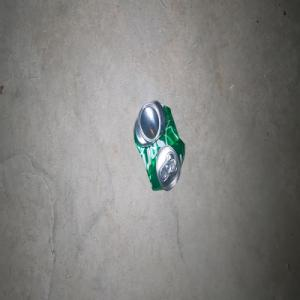SodaCan: (133, 99, 184, 190)
